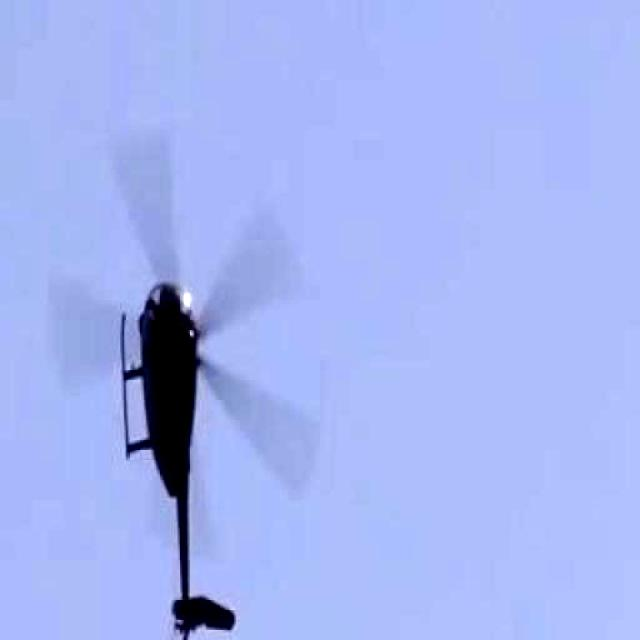drone: (10, 61, 346, 640)
